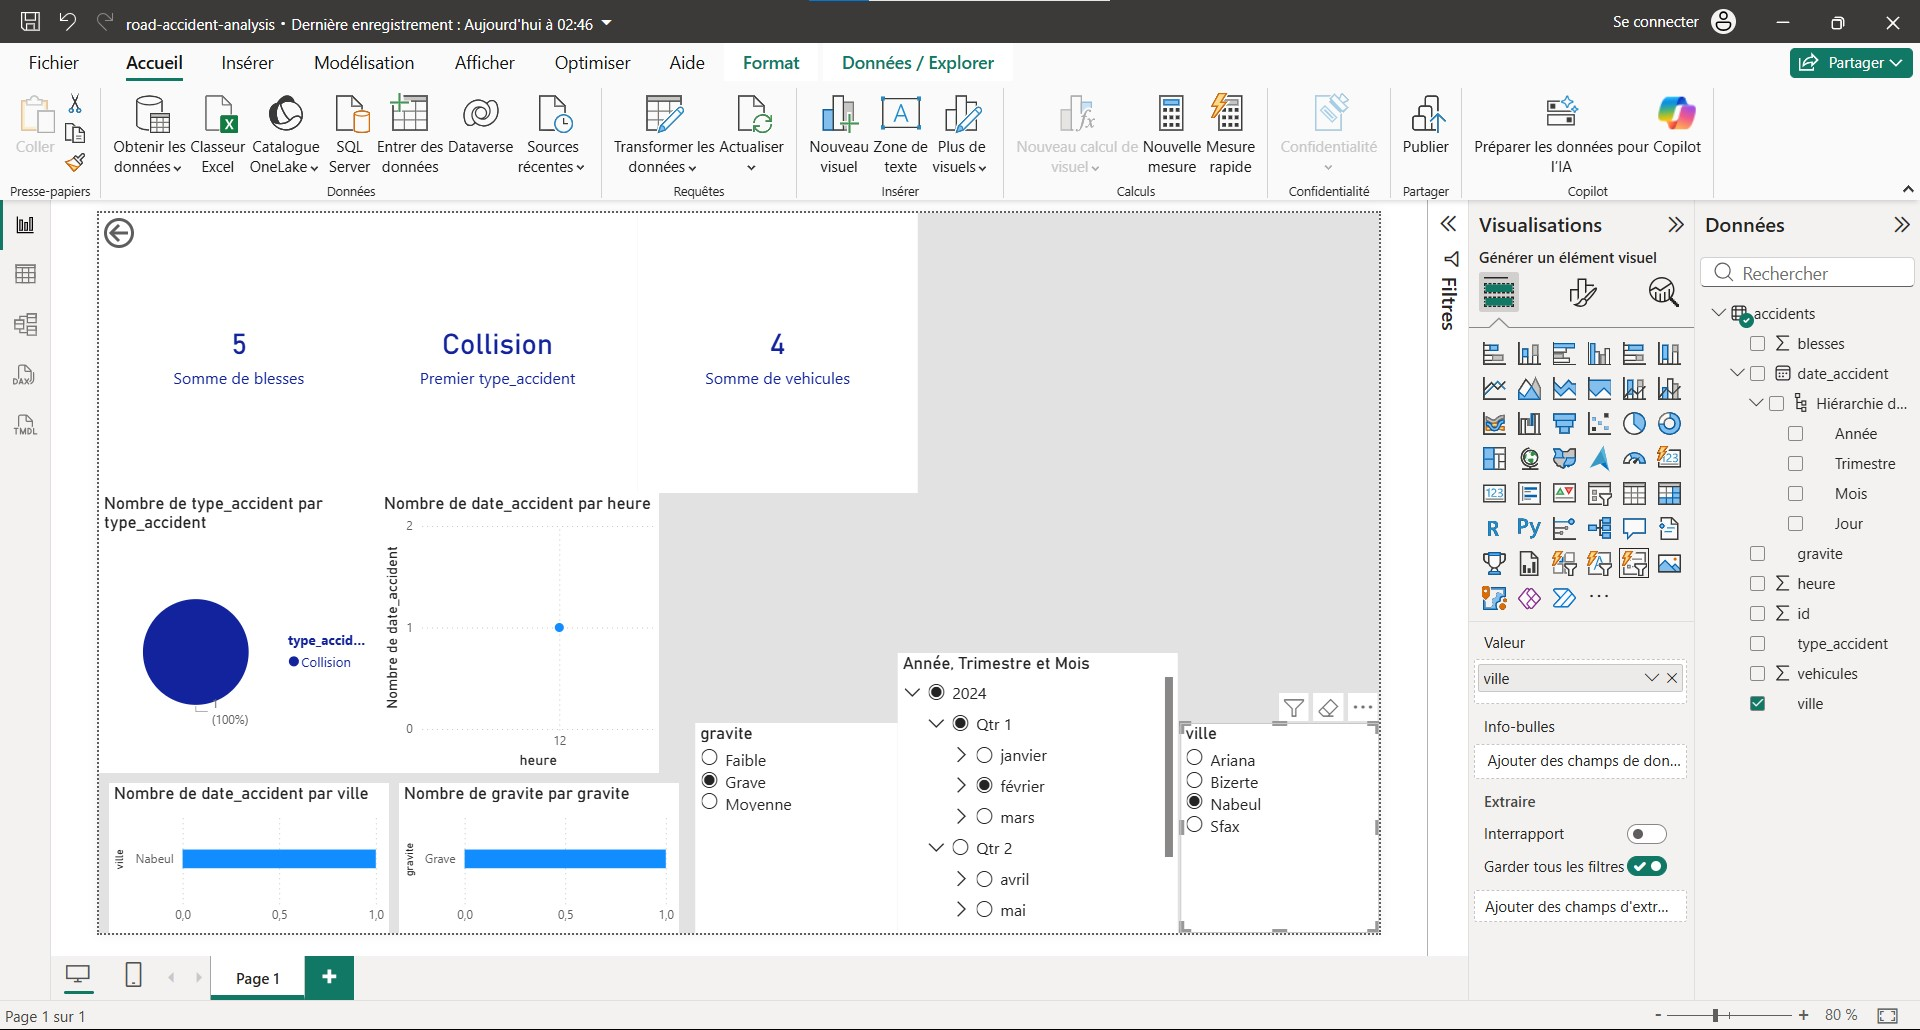

The page's visual inventory and layout, read from the dashboard file:
{"tool":"powerbi","page":{"name":"Page 1","canvas":[1280,720],"ordinal":0},"visuals":[{"type":"card","fields":{"Values":["Sum(accidents.blesses)"]},"box":[0,0,280,280],"z":0},{"type":"card","fields":{"Values":["Min(accidents.type_accident)"]},"box":[258.8,0,280,280],"z":1000},{"type":"clusteredBarChart","fields":{"Category":["accidents.ville"],"Y":["CountNonNull(accidents.date_accident)"]},"box":[10,570,280,150],"z":2000},{"type":"pieChart","fields":{"Category":["accidents.type_accident"],"Y":["CountNonNull(accidents.type_accident)"]},"box":[0,280,280,280],"z":3000},{"type":"lineChart","fields":{"Category":["accidents.heure"],"Y":["CountNonNull(accidents.date_accident)"]},"box":[280,280,280,280],"z":4000},{"type":"barChart","fields":{"Category":["accidents.gravite"],"Y":["CountNonNull(accidents.gravite)"]},"box":[300,570,280,150],"z":5000},{"type":"card","fields":{"Values":["Sum(accidents.vehicules)"]},"box":[538.8,0,280,280],"z":6000},{"type":"actionButton","box":[0,0,100,40],"z":7000},{"type":"listSlicer","fields":{"Values":["accidents.ville"]},"box":[1081.2,510,198.8,210],"z":8000},{"type":"listSlicer","fields":{"Values":["accidents.gravite"]},"box":[596.2,510,202.5,210],"z":9000},{"type":"listSlicer","fields":{"Values":["accidents.date_accident.Variation.Hiérarchie de dates.Année","accidents.date_accident.Variation.Hiérarchie de dates.Trimestre","accidents.date_accident.Variation.Hiérarchie de dates.Mois","accidents.date_accident.Variation.Hiérarchie de dates.Jour"]},"box":[798.8,440,280,280],"z":10000}]}

Visuals, with their boxes on the page's 1280x720 design canvas (x1, y1, x2, y2). These are canvas units, not pixel positions in the 1920x1030 screenshot, which may show the page scaled, cropped or inside an application window:
card - Sum(accidents.blesses): select_region(0, 0, 280, 280)
card - Min(accidents.type_accident): select_region(259, 0, 539, 280)
clusteredBarChart - accidents.ville x CountNonNull(accidents.date_accident): select_region(10, 570, 290, 720)
pieChart - accidents.type_accident x CountNonNull(accidents.type_accident): select_region(0, 280, 280, 560)
lineChart - accidents.heure x CountNonNull(accidents.date_accident): select_region(280, 280, 560, 560)
barChart - accidents.gravite x CountNonNull(accidents.gravite): select_region(300, 570, 580, 720)
card - Sum(accidents.vehicules): select_region(539, 0, 819, 280)
actionButton: select_region(0, 0, 100, 40)
listSlicer - accidents.ville: select_region(1081, 510, 1280, 720)
listSlicer - accidents.gravite: select_region(596, 510, 799, 720)
listSlicer - accidents.date_accident.Variation.Hiérarchie de dates.Année x accidents.date_accident.Variation.Hiérarchie de dates.Trimestre: select_region(799, 440, 1079, 720)
